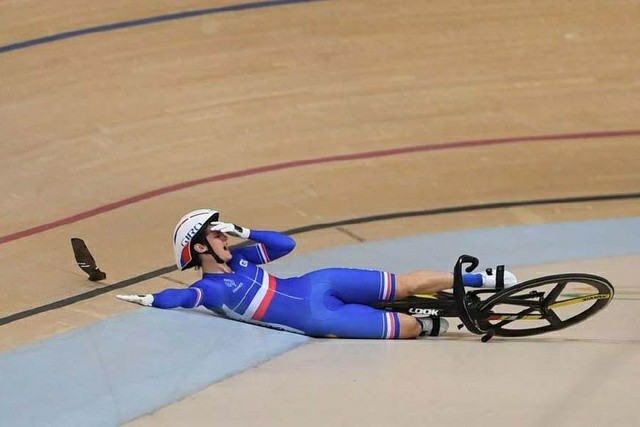down: (109, 194, 525, 344)
